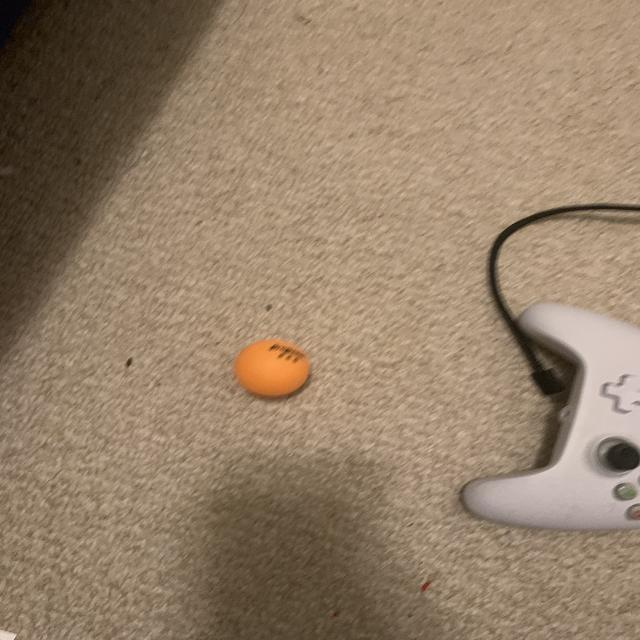ping-pong-ball: (227, 332, 315, 410)
